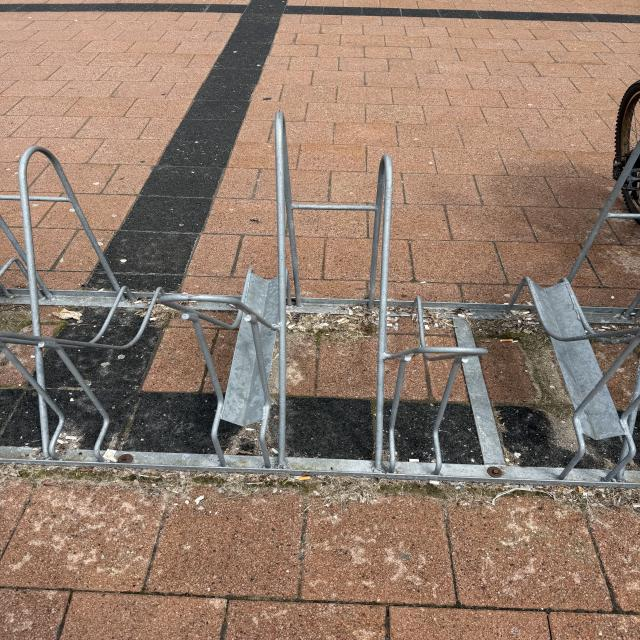Bicycle Rack: (0, 113, 640, 487)
